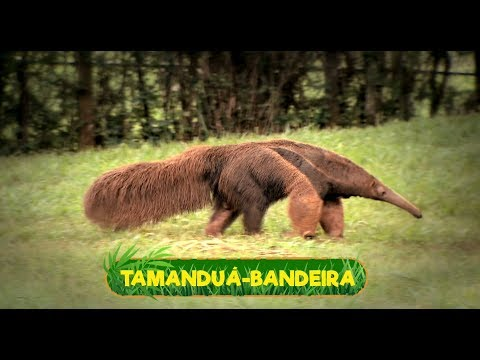TamanduaBandeira: (81, 138, 427, 244)
